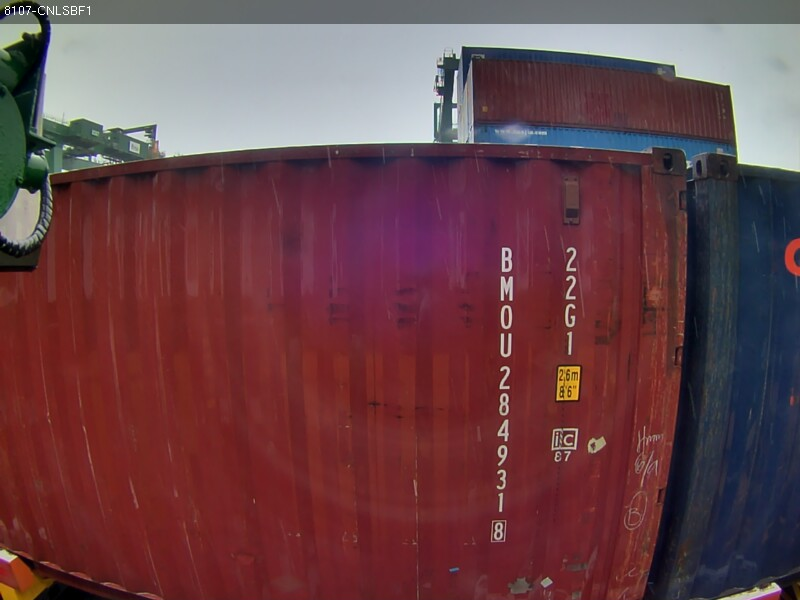container_no_door: (350, 134, 683, 568)
